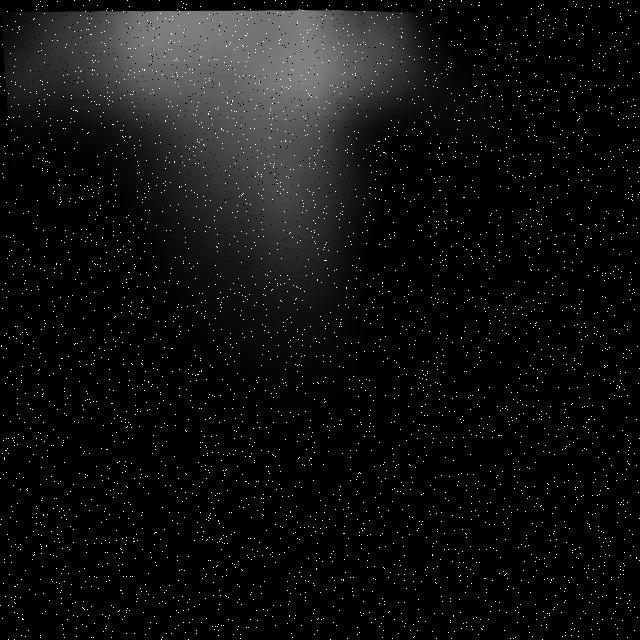person: (1, 1, 547, 512)
